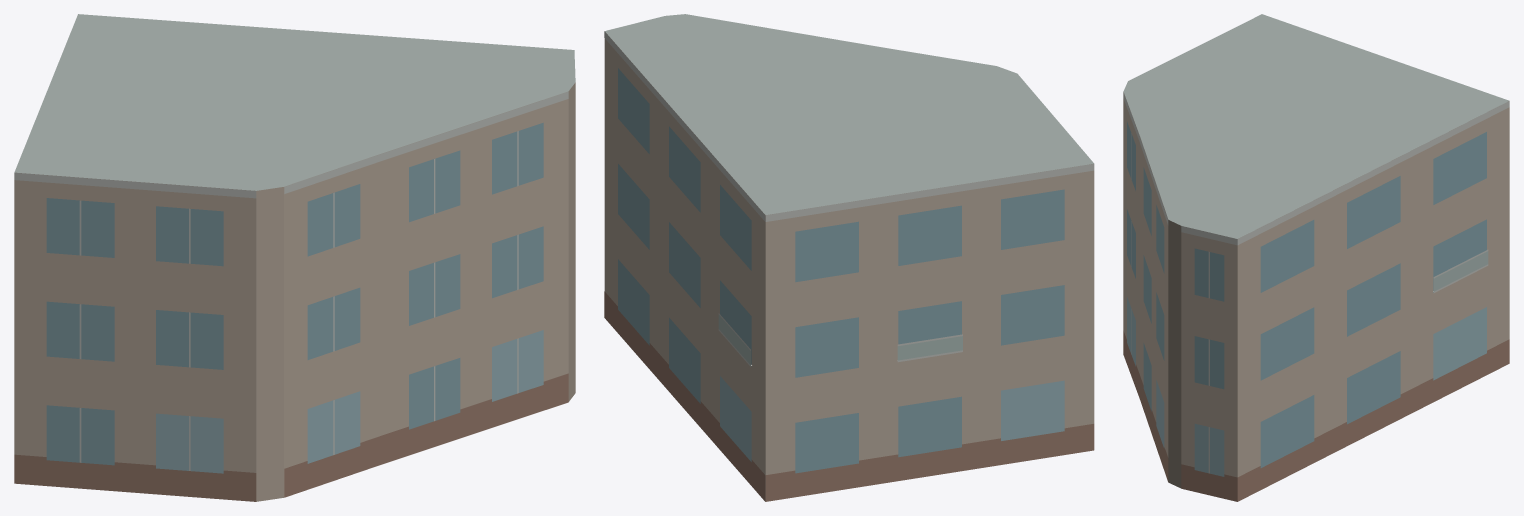
The model's file is survey-upis-32599780.glb.
3 views of the same model, side by side, from view 1: azimuth 30°, elevation 25°; view 2: azimuth 150°, elevation 25°; view 3: azimuth 270°, elevation 25° (orthographic). The views are drawn at different scales.
Visible parts, largest first — view 1: survey-upis-32599780.tmp; view 2: survey-upis-32599780.tmp; view 3: survey-upis-32599780.tmp.
Boxes of the visible parts, x1,y1,x2,y2 form: survey-upis-32599780.tmp: (14,14,575,501); survey-upis-32599780.tmp: (604,14,1094,501); survey-upis-32599780.tmp: (1123,14,1509,501).
Size of the model in its own units: 18.56 by 10.1 by 13.46.
